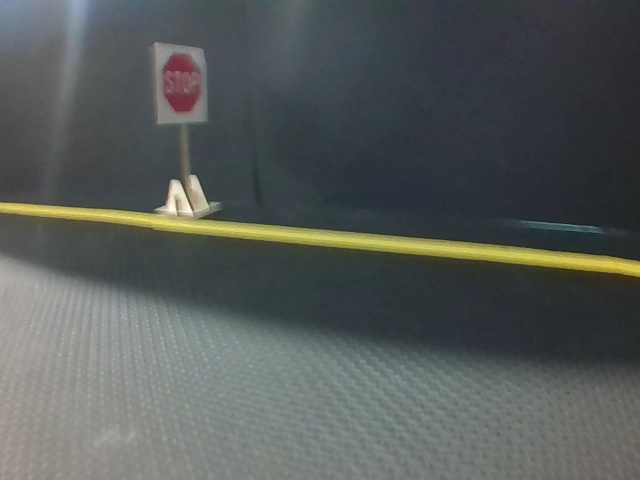stop: (155, 42, 209, 124)
